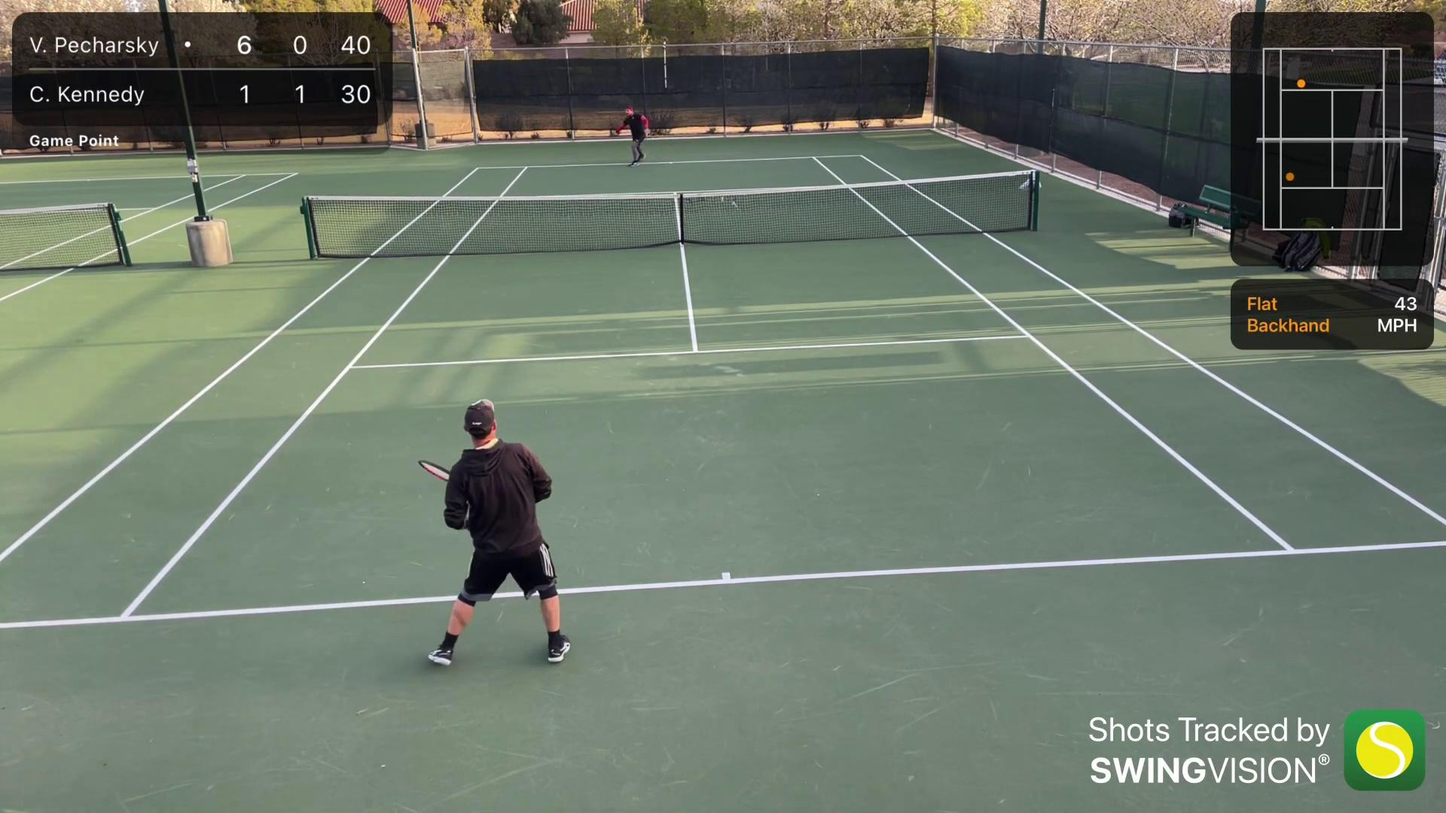ball: (193, 178, 198, 181)
